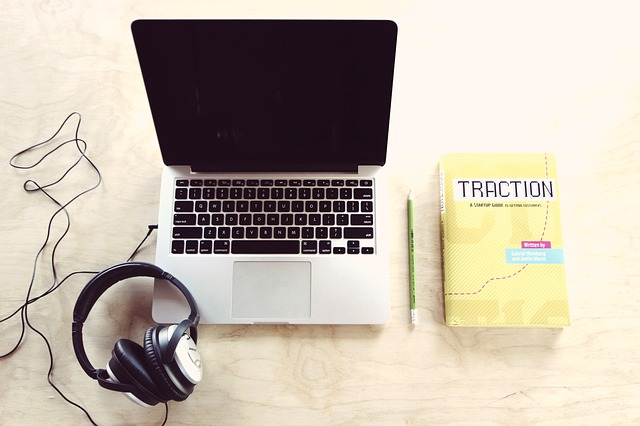headphones: (71, 263, 203, 409)
